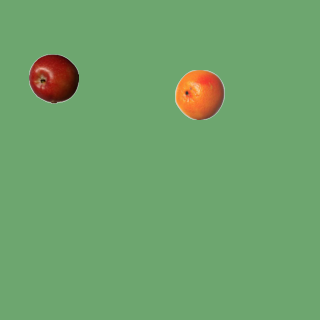Apple Braeburn: (28, 53, 78, 103)
Grapefruit Pink: (174, 69, 224, 119)
